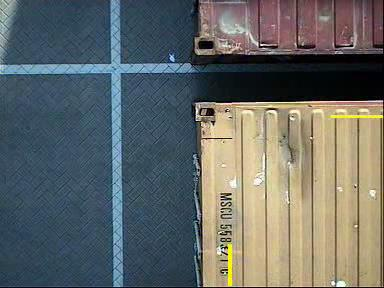groundmarker_2: (95, 125, 182, 184)
